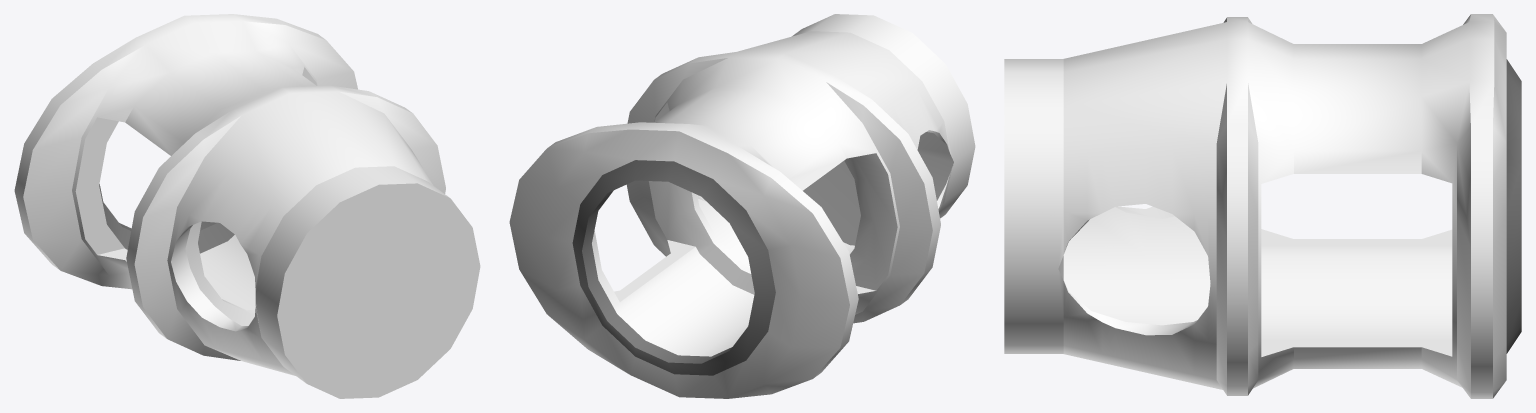
The model's file is muzzle1.fbx.
The picture shows the model from 3 angles, left to right: view 1: azimuth 30°, elevation 25°; view 2: azimuth 150°, elevation 25°; view 3: azimuth 270°, elevation 25°; orthographic projection. The views are drawn at different scales.
Visible parts, largest first — view 1: Muzzle; view 2: Muzzle; view 3: Muzzle.
Part boxes in pixels (x1,y1,x2,y2): Muzzle: [14, 14, 480, 398]; Muzzle: [509, 14, 975, 398]; Muzzle: [1004, 14, 1521, 398].
Bounding box in the file's own units: 168 × 125 × 175.
